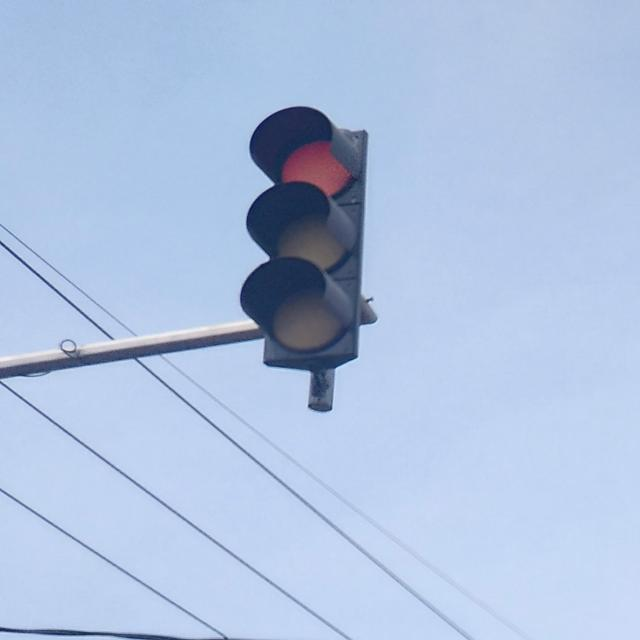red light: (248, 103, 372, 364)
